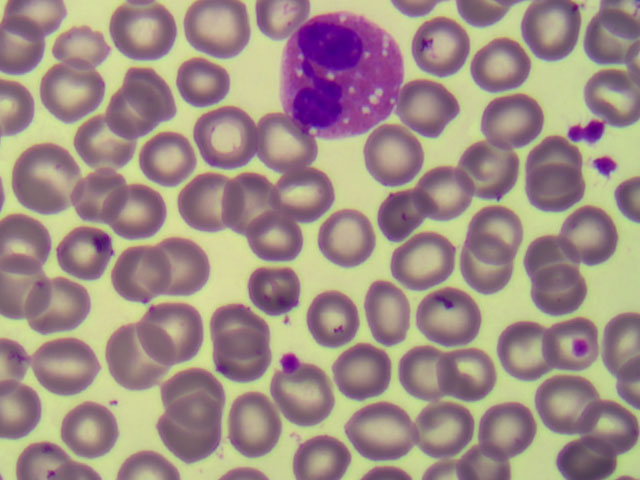Platelets: (565, 113, 605, 145), (596, 151, 620, 181), (277, 351, 299, 370)
RBC: (297, 418, 359, 480), (41, 60, 103, 121), (48, 12, 110, 73), (116, 3, 178, 64), (117, 58, 179, 119), (102, 97, 164, 158), (69, 112, 131, 173), (10, 147, 72, 208), (63, 165, 125, 226), (111, 178, 173, 239), (48, 225, 110, 286), (40, 278, 102, 339), (1, 210, 63, 271), (38, 335, 100, 396), (56, 393, 118, 454), (104, 331, 166, 392), (144, 300, 206, 361), (153, 235, 215, 296), (105, 243, 167, 304), (176, 175, 238, 236), (212, 168, 274, 229), (238, 206, 300, 267), (276, 158, 338, 219), (262, 111, 324, 172), (187, 107, 249, 168), (145, 123, 207, 184), (175, 51, 237, 112), (188, 3, 250, 64), (358, 121, 420, 182), (399, 75, 461, 136), (407, 18, 469, 79), (469, 34, 531, 95), (519, 1, 581, 62), (578, 57, 640, 118), (489, 89, 551, 150), (459, 138, 521, 199), (413, 160, 475, 221), (372, 184, 434, 245), (317, 210, 379, 271), (387, 229, 449, 290), (446, 238, 508, 299), (471, 197, 533, 258), (514, 218, 576, 279), (557, 200, 619, 261), (535, 261, 597, 322), (550, 312, 612, 373), (500, 315, 562, 376), (578, 395, 640, 456), (538, 377, 600, 438), (471, 402, 533, 463), (417, 395, 479, 456), (446, 350, 508, 411), (394, 336, 456, 397), (414, 282, 476, 343), (351, 279, 413, 340), (307, 284, 369, 345), (339, 337, 401, 398), (355, 392, 417, 453), (274, 361, 336, 422), (227, 387, 289, 448), (168, 401, 230, 462), (167, 364, 229, 425), (215, 330, 277, 391), (211, 291, 273, 352), (242, 257, 304, 318)
WBC: (277, 10, 403, 142)
